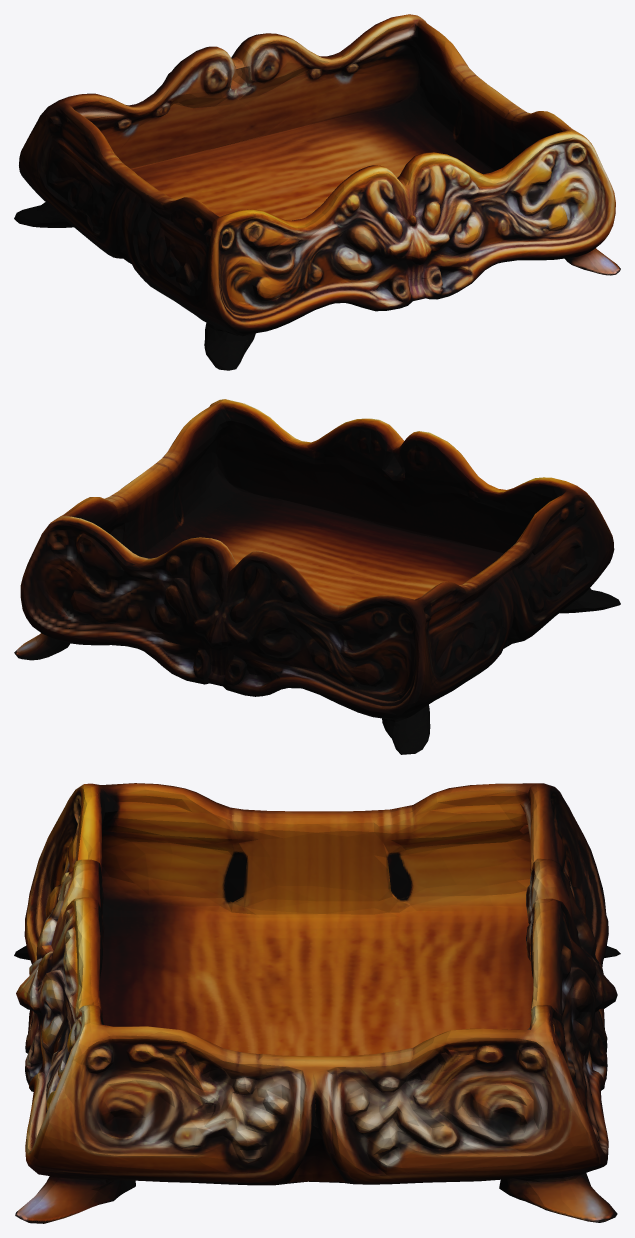
File: wooden-card-holder-vintage.jpeg.glb
3 renders of one model, top to bottom at view 1: azimuth 30°, elevation 25°; view 2: azimuth 150°, elevation 25°; view 3: azimuth 270°, elevation 25°, orthographic. The views are drawn at different scales.
Visible parts, largest first — view 1: world; view 2: world; view 3: world.
Boxes of the visible parts, x1=… form: world: x1=14, y1=14, x2=620, y2=370; world: x1=14, y1=399, x2=620, y2=754; world: x1=14, y1=783, x2=620, y2=1223.
Bounding box in the file's own units: 1 × 0.3398 × 0.9199.
Materials: 1 (1 with a texture image).
